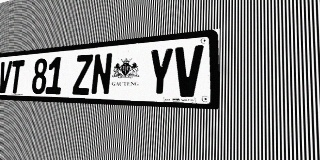1: (45, 56, 64, 94)
8: (31, 58, 49, 94)
N: (90, 52, 113, 95)
T: (9, 60, 25, 93)
V: (173, 45, 204, 97), (0, 61, 12, 93)
Y: (147, 47, 174, 97)
Z: (72, 54, 93, 95)
